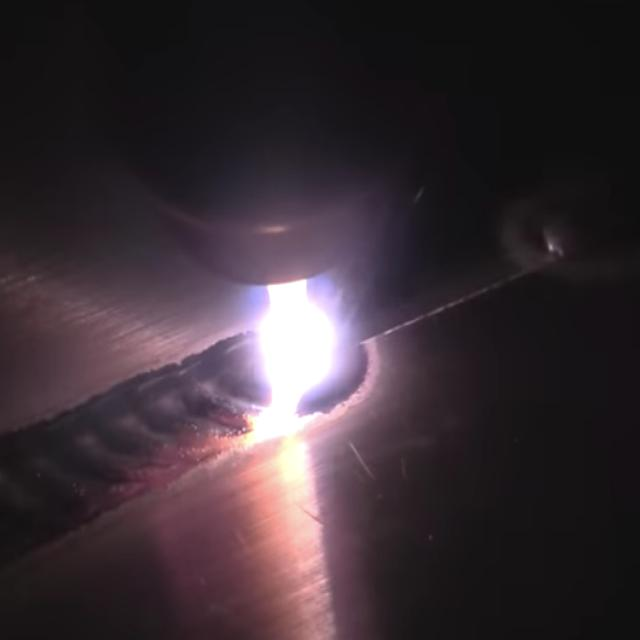welding: (265, 287, 335, 392)
